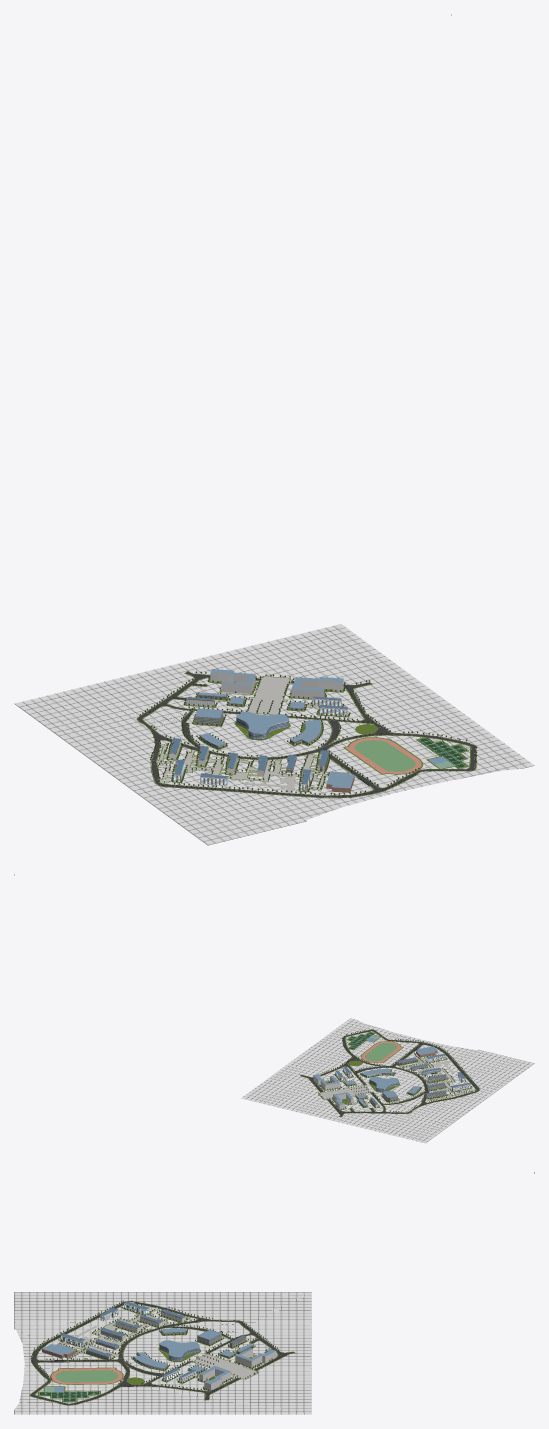
File: hnjcxy007.glb
The picture shows the model from 3 angles, top to bottom: view 1: azimuth 30°, elevation 25°; view 2: azimuth 150°, elevation 25°; view 3: azimuth 270°, elevation 25°; orthographic projection. The views are drawn at different scales.
Parts seen in each view (by area): view 1: Ground_Base, Green_Accents, 47, 27, 11; view 2: Ground_Base, Green_Accents, 47, 27; view 3: Ground_Base, Green_Accents, 47, 27, 11, 46, 52, 44, 24, 22, 45, Trees_P5 (+2 smaller).
Part boxes in pixels (left/top/right/bottom): Ground_Base: left=14, top=624, right=534, bottom=845; Green_Accents: left=136, top=671, right=476, bottom=798; 47: left=151, top=727, right=406, bottom=797; 27: left=354, top=740, right=415, bottom=771; 11: left=236, top=711, right=288, bottom=739; Ground_Base: left=241, top=1018, right=534, bottom=1143; Green_Accents: left=300, top=1029, right=479, bottom=1116; 47: left=349, top=1040, right=479, bottom=1098; 27: left=365, top=1043, right=397, bottom=1061; Ground_Base: left=14, top=1292, right=311, bottom=1414; Green_Accents: left=29, top=1301, right=296, bottom=1405; 47: left=31, top=1301, right=168, bottom=1387; 27: left=55, top=1370, right=118, bottom=1382; 11: left=159, top=1340, right=199, bottom=1361; 46: left=119, top=1309, right=246, bottom=1358; 52: left=197, top=1356, right=257, bottom=1379; 44: left=206, top=1325, right=294, bottom=1370; 24: left=199, top=1366, right=231, bottom=1382; 22: left=235, top=1348, right=262, bottom=1367; 45: left=133, top=1361, right=239, bottom=1399; Trees_P5: left=31, top=1358, right=277, bottom=1368.
Size of the model in its own units: 1391 by 1003 by 1401.
124 materials, 100 textured.
